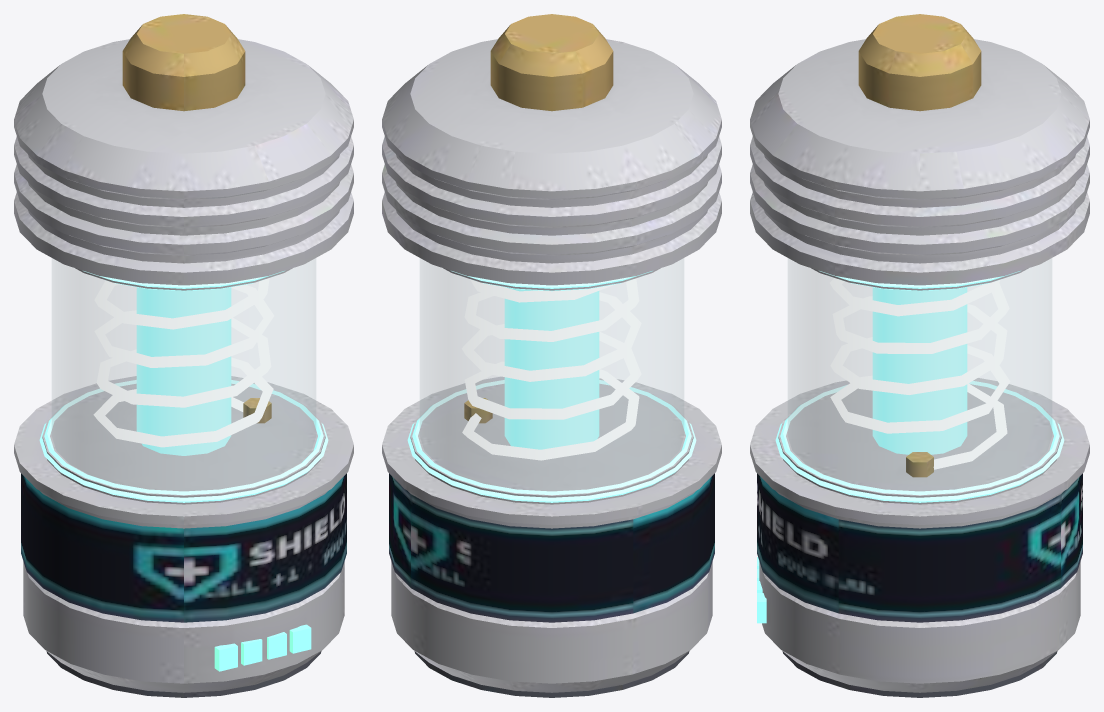
File: shield_battery.glb
3 renders of one model, left to right at view 1: azimuth 30°, elevation 25°; view 2: azimuth 150°, elevation 25°; view 3: azimuth 270°, elevation 25°, orthographic.
Visible parts, largest first — view 1: body, core_rod, mesh_coil; view 2: body, mesh_coil, core_rod; view 3: body, mesh_coil, core_rod.
Part boxes in pixels (<box>): body: <box>14,14,353,697</box>; core_rod: <box>136,287,231,455</box>; mesh_coil: <box>93,278,274,447</box>; body: <box>382,14,721,697</box>; mesh_coil: <box>461,278,641,460</box>; core_rod: <box>504,287,599,449</box>; body: <box>750,14,1089,697</box>; mesh_coil: <box>830,278,1010,477</box>; core_rod: <box>872,287,967,454</box>.
Bounding box in the file's own units: 0.576 × 1.13 × 0.576.
5 materials, 1 textured.
